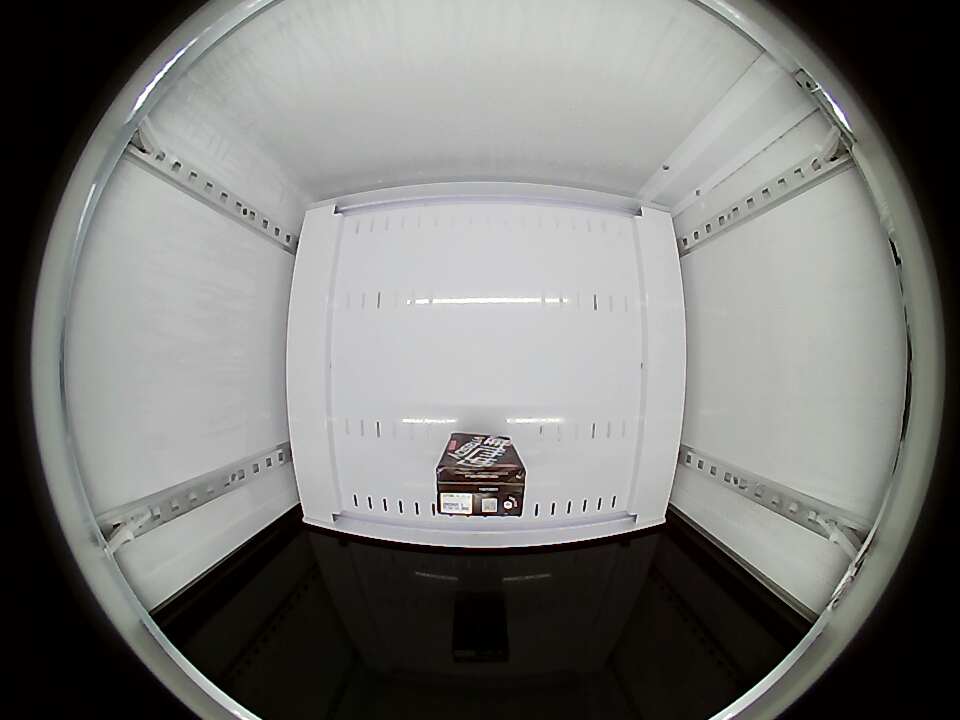weitanai2: (436, 454, 527, 517)
